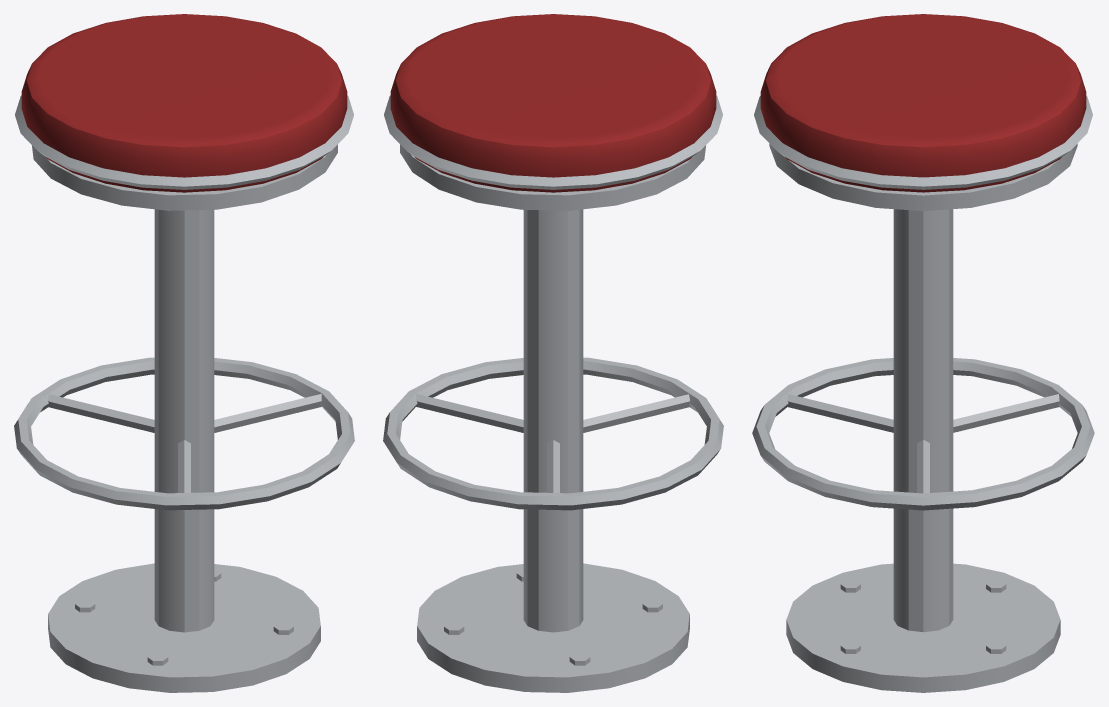
Rendered from prop_diner_stool.glb.
3 renders of one model, left to right at view 1: azimuth 30°, elevation 25°; view 2: azimuth 150°, elevation 25°; view 3: azimuth 270°, elevation 25°, orthographic.
Visible parts, largest first — view 1: Stool; view 2: Stool; view 3: Stool.
Boxes of the visible parts, x1,y1,x2,y2 form: Stool: (14, 14, 354, 692); Stool: (383, 14, 723, 692); Stool: (752, 14, 1094, 692).
Size of what is drawn, in the model's own units: 0.4 by 0.72 by 0.4.
